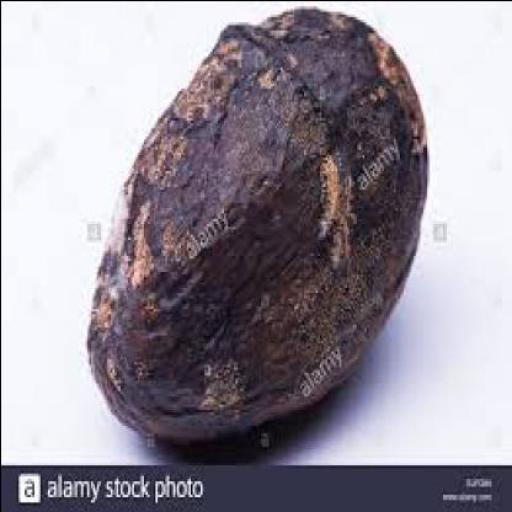biodegradable: (84, 3, 426, 438)
